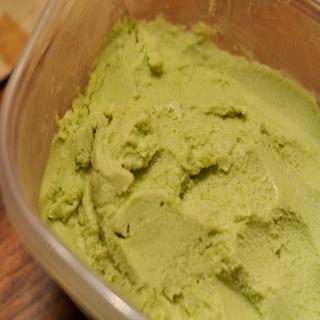Ice cream: (35, 9, 318, 320)
